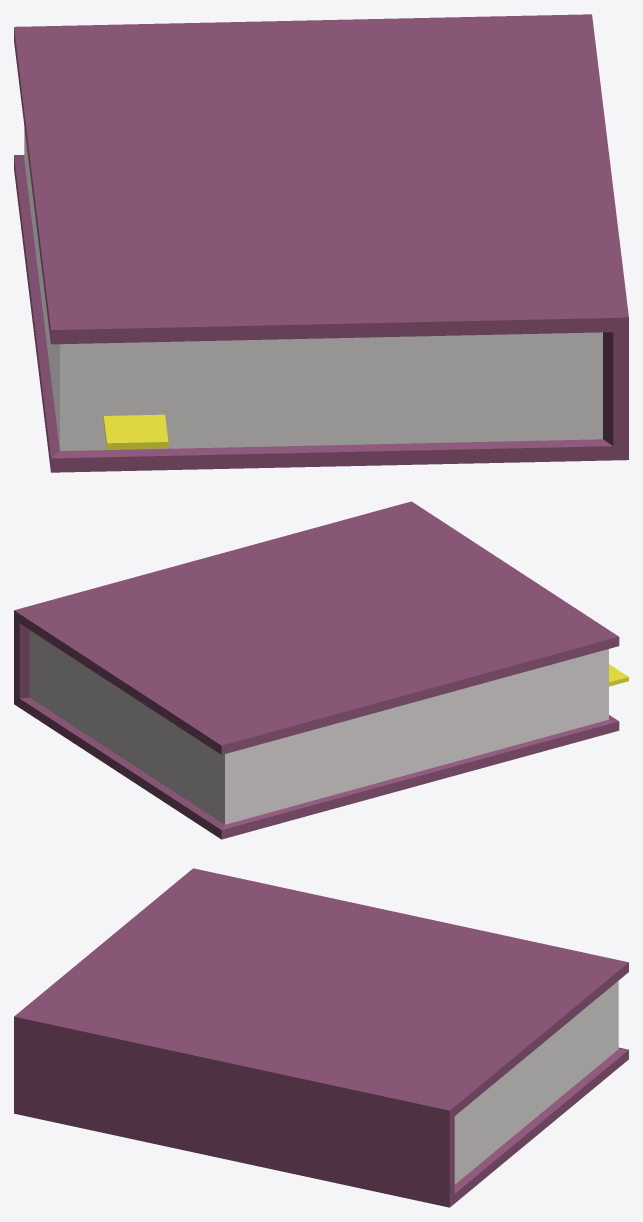
The model's file is Backyard_Book.fbx.
3 views of the same model, one above another, from view 1: azimuth 30°, elevation 25°; view 2: azimuth 150°, elevation 25°; view 3: azimuth 270°, elevation 25° (orthographic). The views are drawn at different scales.
Parts seen in each view (by area): view 1: Backyard_Book; view 2: Backyard_Book; view 3: Backyard_Book.
Boxes of the visible parts, bbox=[...] form: Backyard_Book: bbox=[14, 14, 628, 472]; Backyard_Book: bbox=[14, 501, 628, 839]; Backyard_Book: bbox=[14, 868, 628, 1207].
Bounding box in the file's own units: 28.19 × 30.23 × 5.26.
